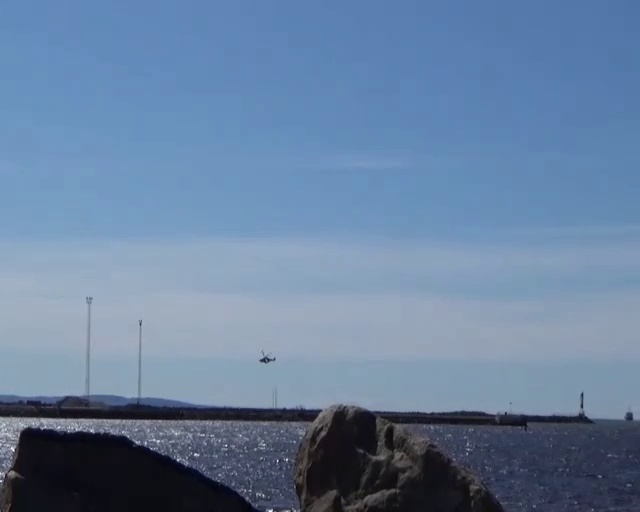HELICOPTER: (260, 349, 276, 364)
